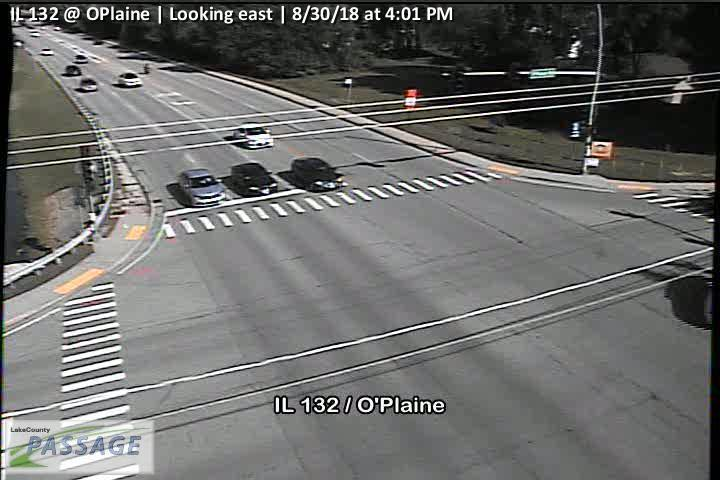SUV: (292, 157, 344, 193), (232, 163, 278, 197)
Sedan: (177, 169, 226, 207), (233, 123, 274, 149), (118, 73, 142, 86), (80, 78, 97, 91), (66, 66, 82, 75), (73, 55, 88, 64), (40, 48, 53, 56)
